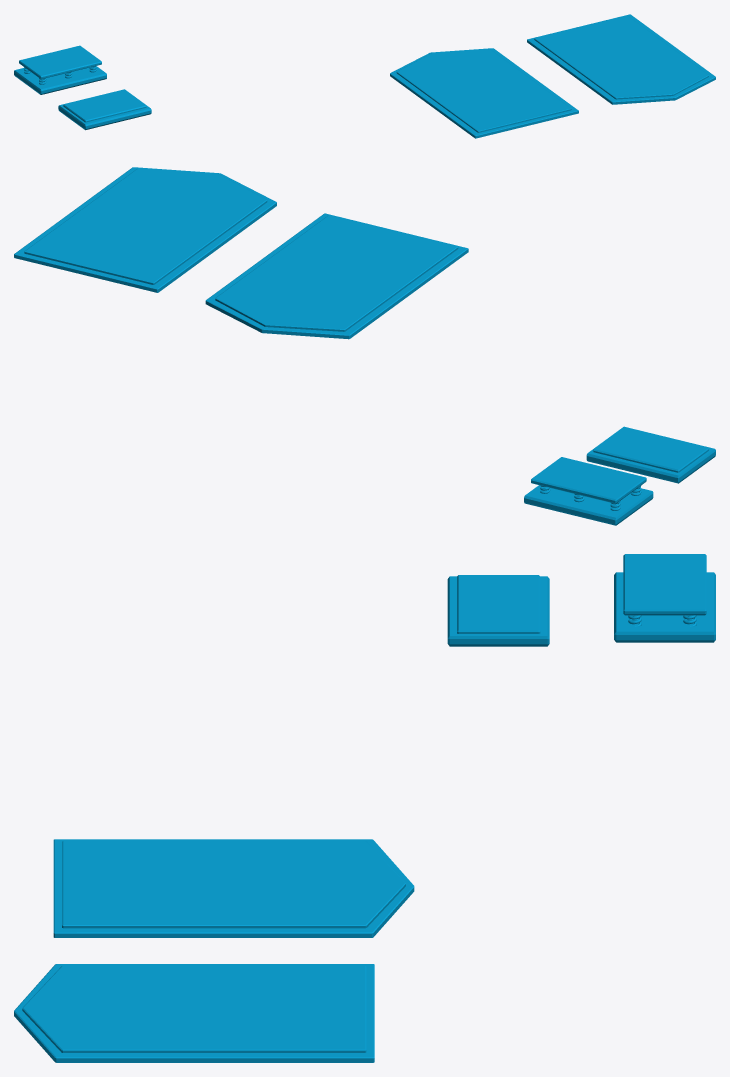
Rendered from Buffs.fbx.
3 renders of one model, top to bottom at view 1: azimuth 30°, elevation 25°; view 2: azimuth 150°, elevation 25°; view 3: azimuth 270°, elevation 25°, orthographic. The views are drawn at different scales.
Visible parts, largest first — view 1: Pad (×4), Base (×4); view 2: Pad (×4), Base (×4); view 3: Pad (×4), Base (×4).
Boxes of the visible parts, box(x1,y1,x2,y2) form: Pad (×4): box(19, 15, 708, 132); Base (×4): box(14, 14, 715, 138); Pad (×4): box(24, 168, 708, 503); Base (×4): box(14, 167, 715, 525); Pad (×4): box(22, 554, 706, 1052); Base (×4): box(14, 572, 715, 1062).
Bounding box in the file's own units: 11.08 × 0.3834 × 6.89.
